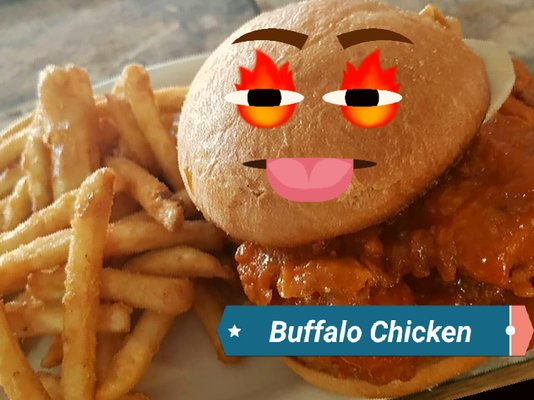soup: (174, 0, 513, 305)
